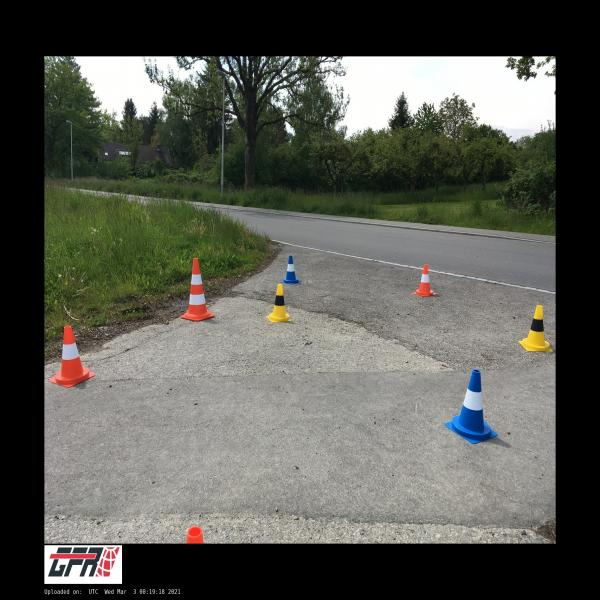blue_cone: (445, 369, 498, 444), (281, 255, 298, 283)
large_orange_cone: (180, 258, 215, 321)
orange_cone: (49, 326, 95, 387), (413, 265, 436, 296)
yellow_cone: (519, 304, 552, 353), (267, 284, 291, 321)
